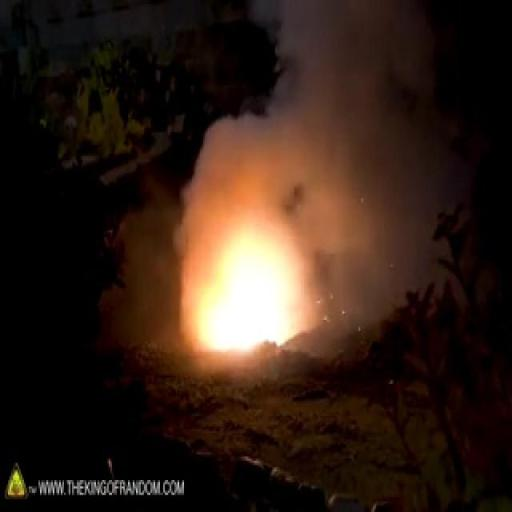smoke: (192, 203, 325, 356)
